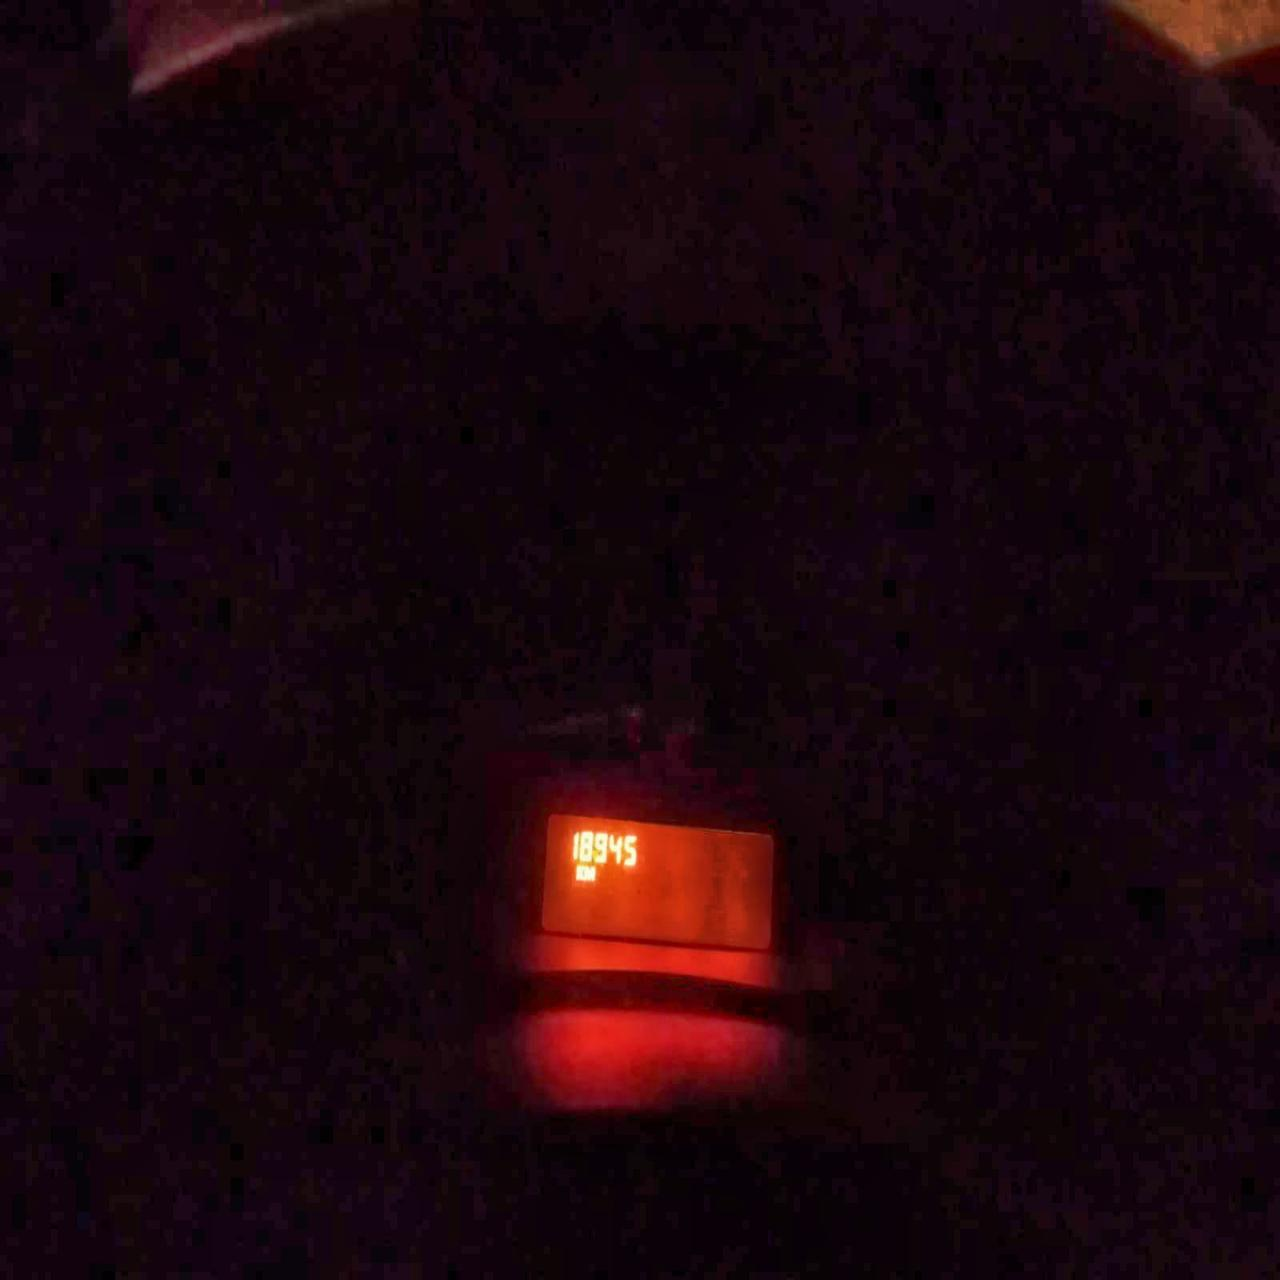1: (571, 828, 578, 863)
4: (607, 832, 621, 864)
5: (625, 833, 638, 867)
8: (578, 829, 592, 863)
9: (594, 831, 607, 863)
X: (583, 863, 595, 881), (576, 863, 583, 881)
odometer: (538, 810, 778, 953)
